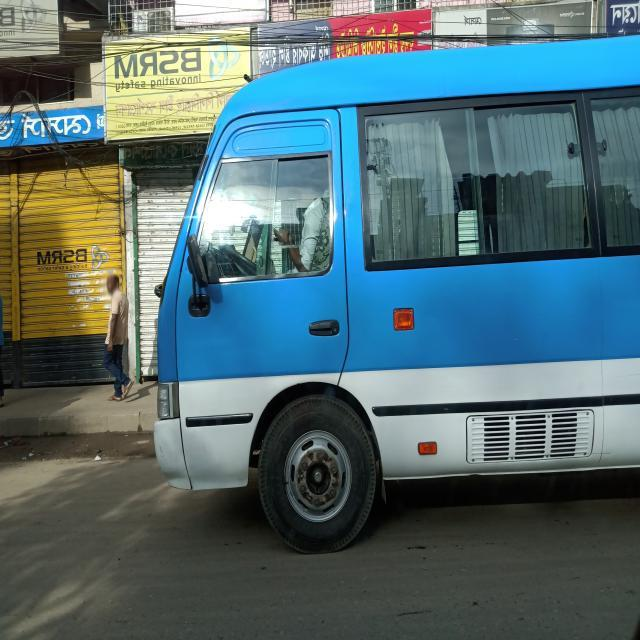Mini-Bus: (120, 15, 640, 557)
